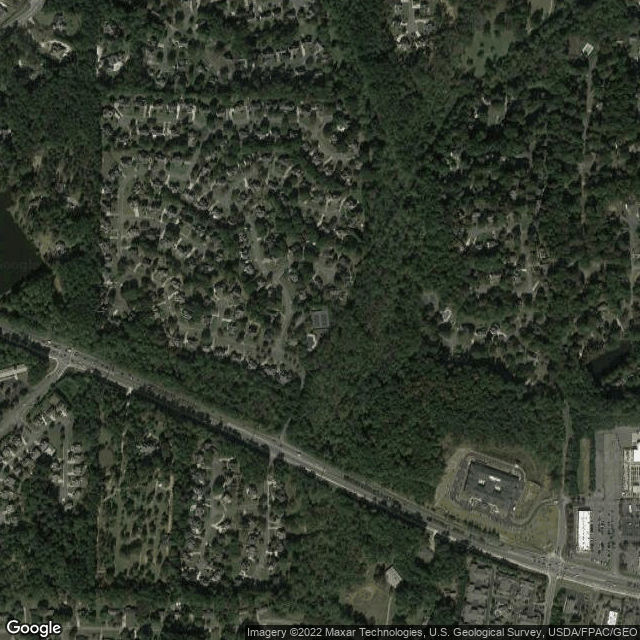Court: (312, 313, 321, 327), (321, 313, 328, 327)
